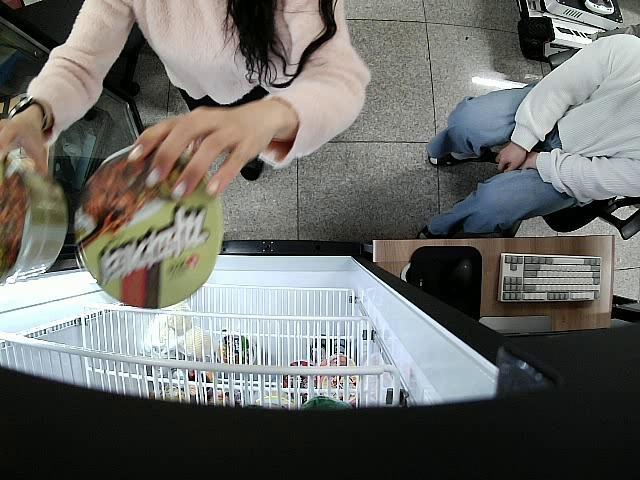03_chapagetti_L: (74, 156, 230, 308), (0, 159, 66, 280)
